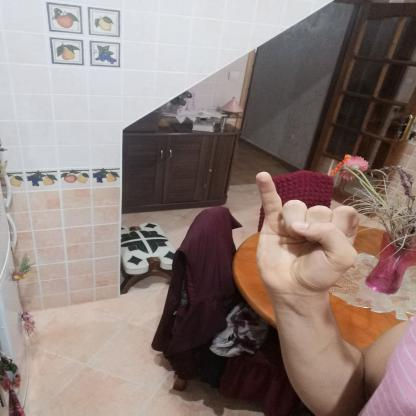MEEM: (241, 164, 372, 308)
